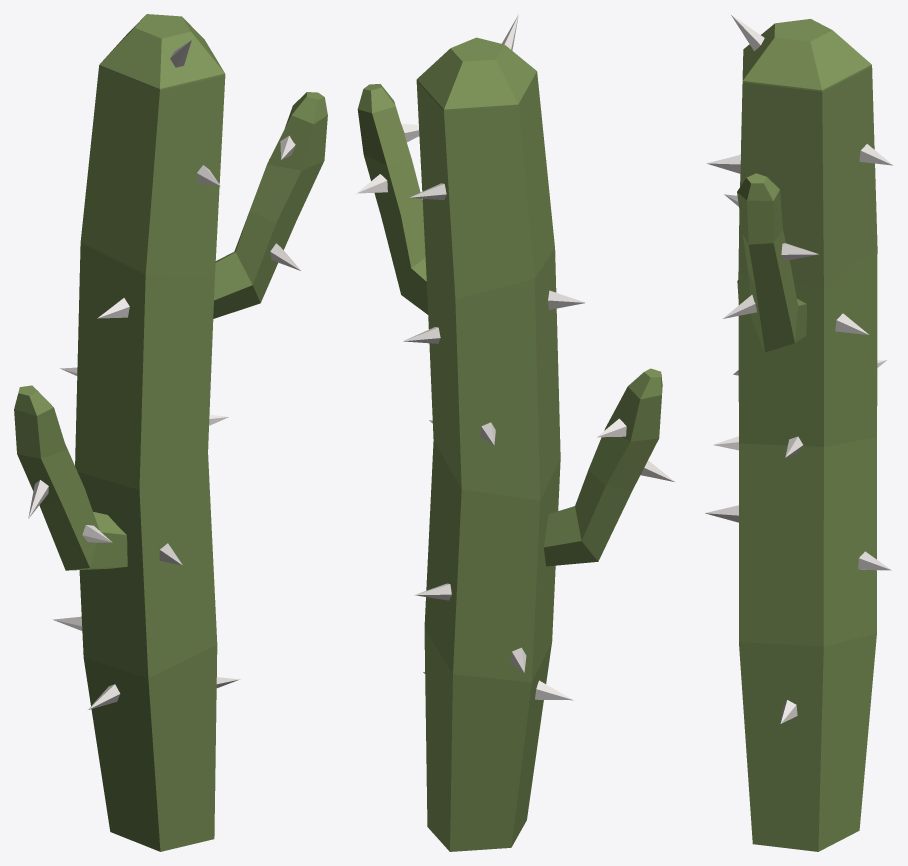
The model's file is cactus2.gltf.
The picture shows the model from 3 angles, left to right: view 1: azimuth 30°, elevation 25°; view 2: azimuth 150°, elevation 25°; view 3: azimuth 270°, elevation 25°; orthographic projection. The views are drawn at different scales.
Parts seen in each view (by area): view 1: cactus2; view 2: cactus2; view 3: cactus2.
Part boxes in pixels (x1=…): cactus2: x1=14, y1=14, x2=327, y2=851; cactus2: x1=356, y1=14, x2=674, y2=851; cactus2: x1=705, y1=14, x2=893, y2=851.
Bounding box in the file's own units: 1.41 × 3.59 × 0.7568.
2 materials, 2 textured.
